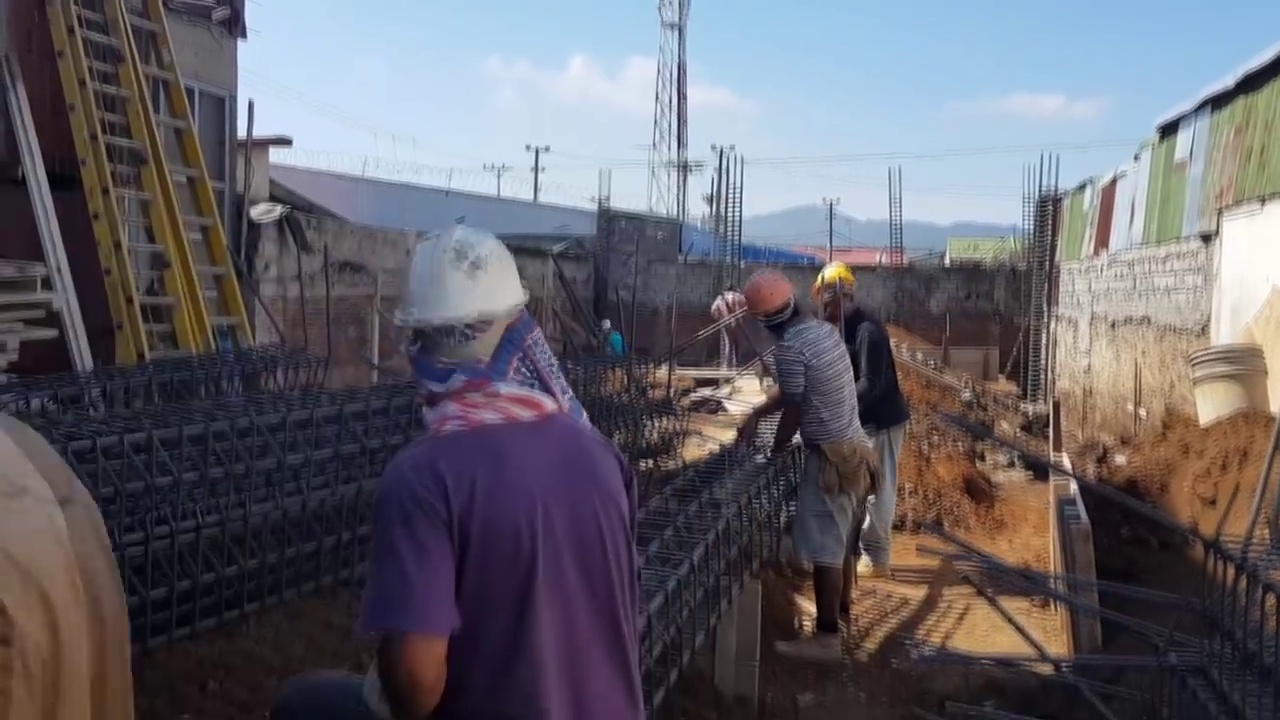helmet: (380, 222, 542, 347), (812, 259, 861, 304), (744, 274, 792, 316), (602, 322, 612, 333)
helmet-off: (721, 281, 736, 294)
helmet-on: (385, 219, 538, 424), (744, 269, 813, 338), (813, 256, 864, 325), (599, 323, 616, 339)
person: (360, 218, 652, 689), (739, 265, 877, 667), (808, 250, 913, 577), (708, 281, 748, 379), (596, 324, 628, 369)
